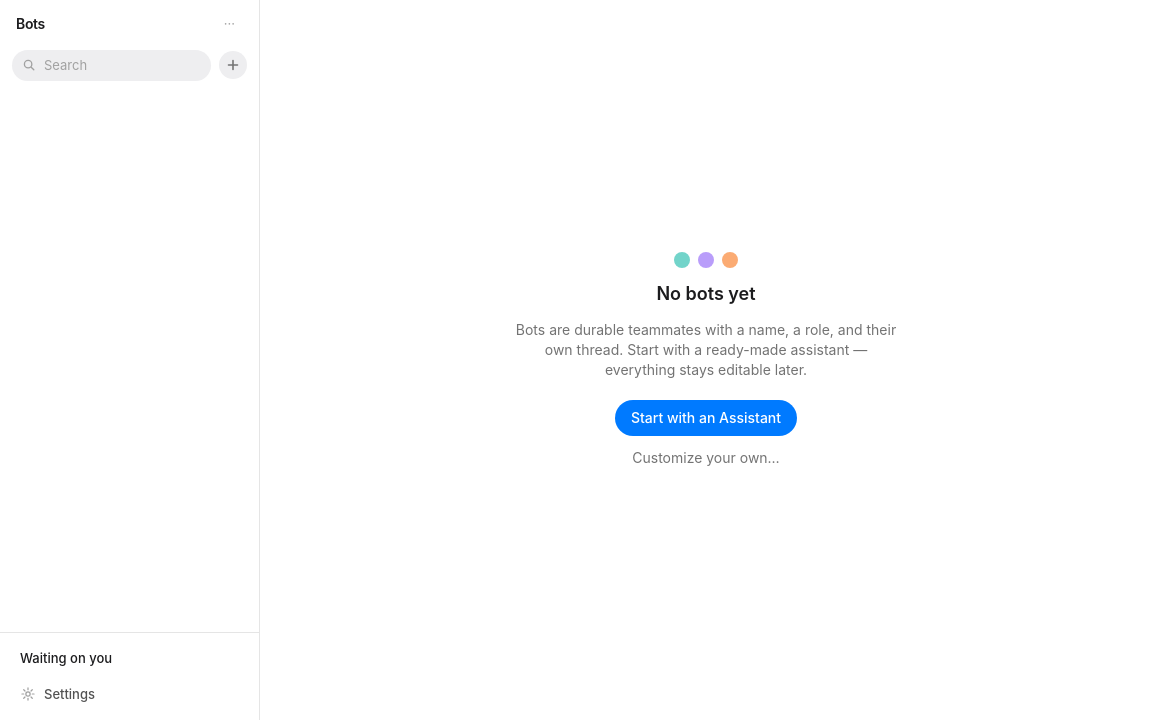
Test: App › creates a ready assistant in one click from the empty state
What coordinates should you click on to do the following:
click the button "Start with an Assistant"
I would click on:
 (706, 418)
Its box is [615,400,797,436].
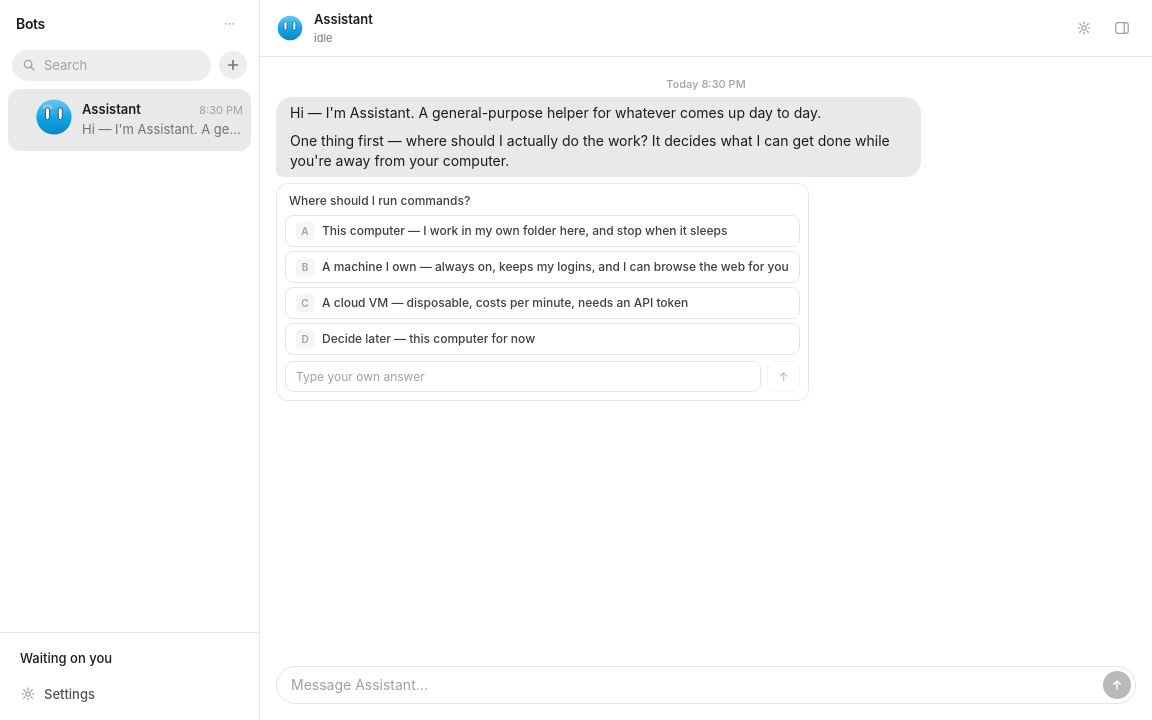
Check: the heading "Assistant" is shown, box [314,11,373,27]
Check: the text box labelled "Message" is enabled, box [277,667,1099,703]
